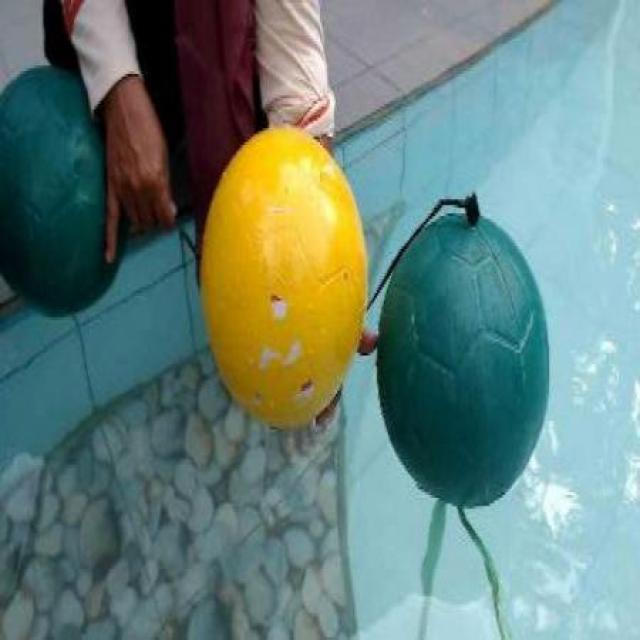buoy: (375, 210, 548, 507), (199, 124, 367, 428), (0, 66, 127, 317)
